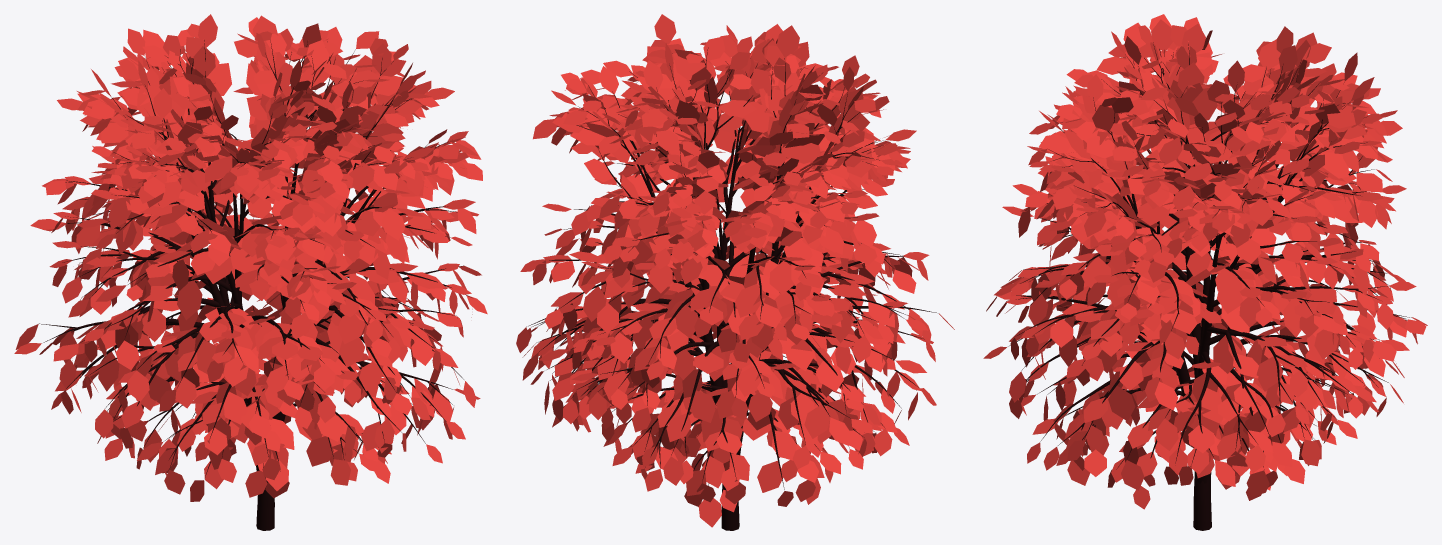
The model's file is Planet 2 Maple.fbx.
The picture shows the model from 3 angles, left to right: view 1: azimuth 30°, elevation 25°; view 2: azimuth 150°, elevation 25°; view 3: azimuth 270°, elevation 25°; orthographic projection.
Visible parts, largest first — view 1: Maple; view 2: Maple; view 3: Maple.
Part boxes in pixels (<box>): Maple: <box>14,14,487,530</box>; Maple: <box>516,14,954,530</box>; Maple: <box>983,14,1427,530</box>.
Size of the model in its own units: 507 by 590 by 496.
